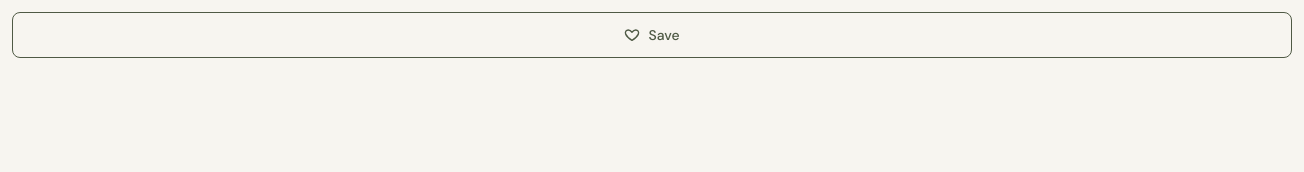
Save: sends only the project ID, tells the Customer, and reports back
Click the button with aria-label "Save Warm Kitchen to shortlist" at x=652, y=35, box [12,12,1292,58]
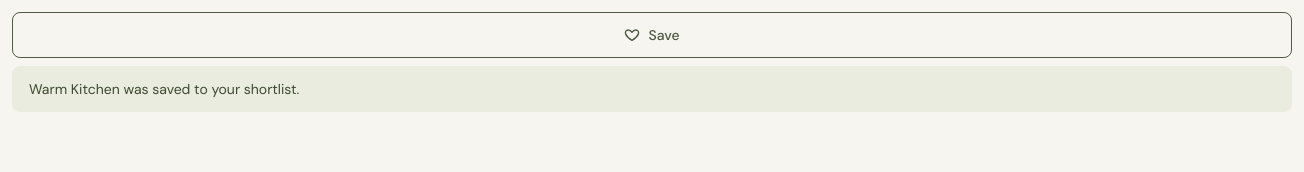
Result: the text "Warm Kitchen was saved to your shortlist." is shown at [12,66,1292,112]
